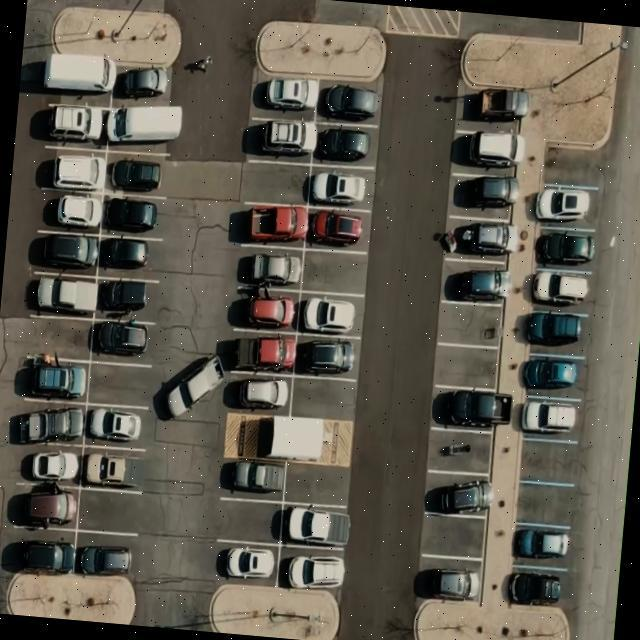space-empty: (20, 312, 93, 364), (212, 495, 282, 547), (76, 486, 148, 536), (238, 157, 310, 207), (436, 297, 504, 348), (432, 342, 501, 392), (420, 512, 488, 562), (86, 360, 156, 408), (514, 436, 581, 486), (288, 373, 356, 422), (299, 247, 366, 294), (282, 460, 348, 507), (513, 480, 576, 528), (544, 142, 604, 188)
space-occupied: (430, 380, 508, 436), (105, 96, 183, 152), (37, 92, 109, 150), (24, 264, 96, 320), (442, 213, 518, 266), (451, 123, 527, 176), (222, 326, 298, 376), (232, 200, 308, 250), (278, 498, 348, 552), (20, 351, 90, 405), (41, 55, 112, 108), (232, 241, 304, 293), (244, 114, 316, 166), (531, 178, 600, 232), (79, 442, 153, 492), (447, 172, 521, 222), (81, 400, 154, 450), (438, 257, 511, 307), (228, 284, 298, 336), (518, 348, 588, 400), (520, 304, 590, 356), (38, 141, 106, 194), (212, 536, 284, 586), (15, 438, 84, 490), (529, 224, 600, 274), (7, 526, 77, 576), (103, 147, 173, 197), (424, 468, 491, 520), (297, 286, 363, 338), (72, 530, 138, 582), (100, 190, 168, 240), (413, 555, 482, 604), (305, 162, 373, 211), (277, 543, 345, 592), (222, 374, 294, 420), (17, 400, 88, 446), (220, 454, 286, 503), (10, 484, 80, 530), (314, 120, 378, 170), (90, 316, 154, 366), (295, 332, 359, 381), (304, 204, 368, 253), (509, 520, 573, 569), (32, 228, 100, 274), (251, 73, 316, 120), (39, 188, 104, 235), (96, 235, 160, 282), (506, 563, 568, 610), (94, 276, 157, 322), (318, 80, 380, 126), (522, 397, 586, 441), (457, 86, 523, 128), (530, 266, 591, 310), (114, 65, 174, 104)
